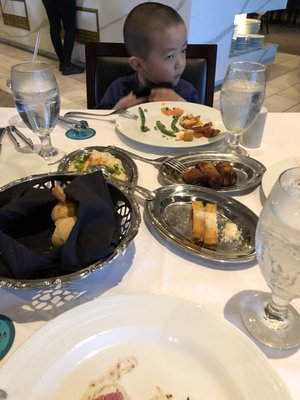pizza: (240, 106, 268, 150)
sushi: (143, 185, 260, 267)
